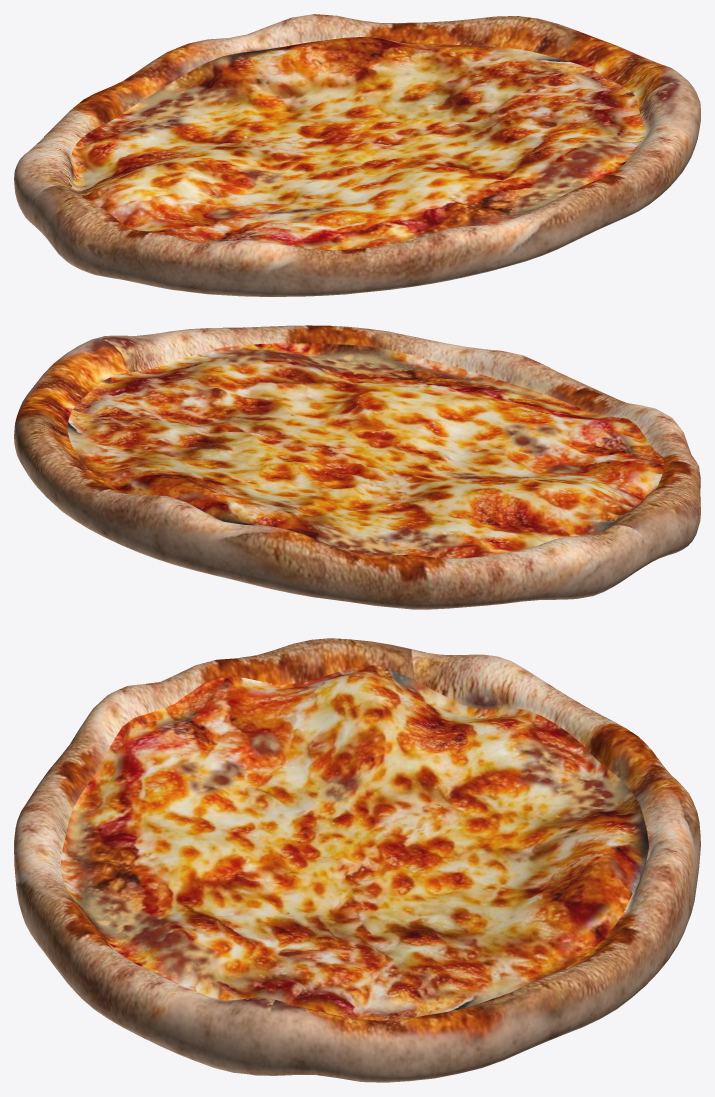
Rendered from pizza.glb.
3 renders of one model, top to bottom at view 1: azimuth 30°, elevation 25°; view 2: azimuth 150°, elevation 25°; view 3: azimuth 270°, elevation 25°, orthographic. The views are drawn at different scales.
Visible parts, largest first — view 1: piza_low_01:Group259_0; view 2: piza_low_01:Group259_0; view 3: piza_low_01:Group259_0.
Part boxes in pixels (box(x1,y1,x2,y2)): piza_low_01:Group259_0: box(14, 14, 700, 296); piza_low_01:Group259_0: box(14, 325, 700, 609); piza_low_01:Group259_0: box(14, 638, 700, 1082).
Bounding box in the file's own units: 0.4064 × 0.041 × 0.2993.
Materials: 1 (1 with a texture image).
